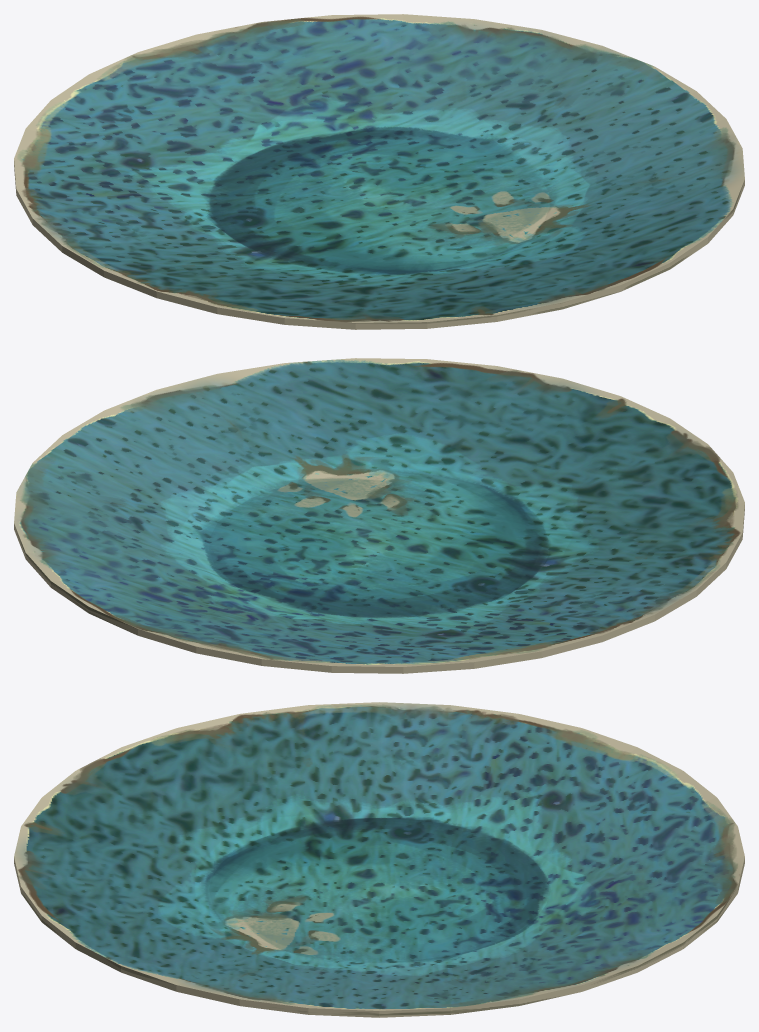
File: plate_lg.fbx
3 views of the same model, one above another, from view 1: azimuth 30°, elevation 25°; view 2: azimuth 150°, elevation 25°; view 3: azimuth 270°, elevation 25° (orthographic).
Parts seen in each view (by area): view 1: plate_LG; view 2: plate_LG; view 3: plate_LG.
Part boxes in pixels (x1,y1,x2,y2): plate_LG: (14, 14, 744, 329); plate_LG: (14, 358, 744, 673); plate_LG: (14, 702, 744, 1017).
Size of the model in its own units: 1197 by 89.79 by 1197.
1 material, 1 textured.
